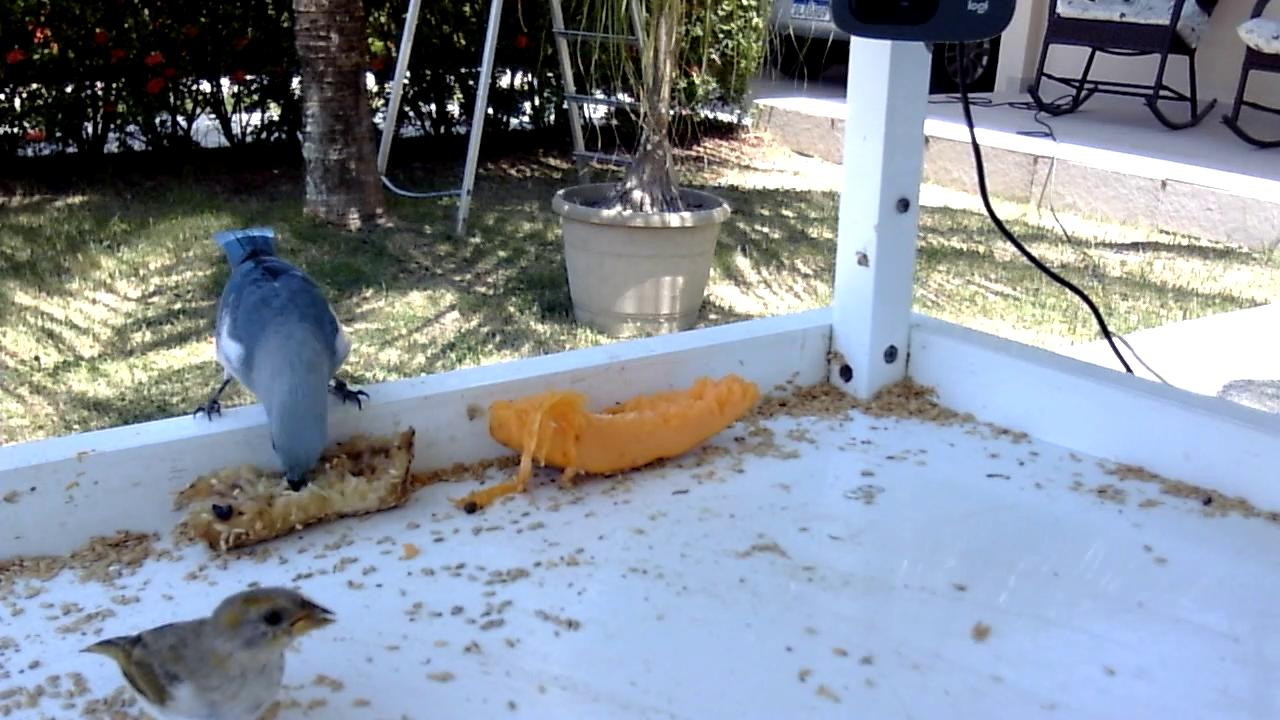canario_do_amazonas: (80, 583, 340, 720)
sanhaco_da_amazonia: (193, 228, 373, 494)
